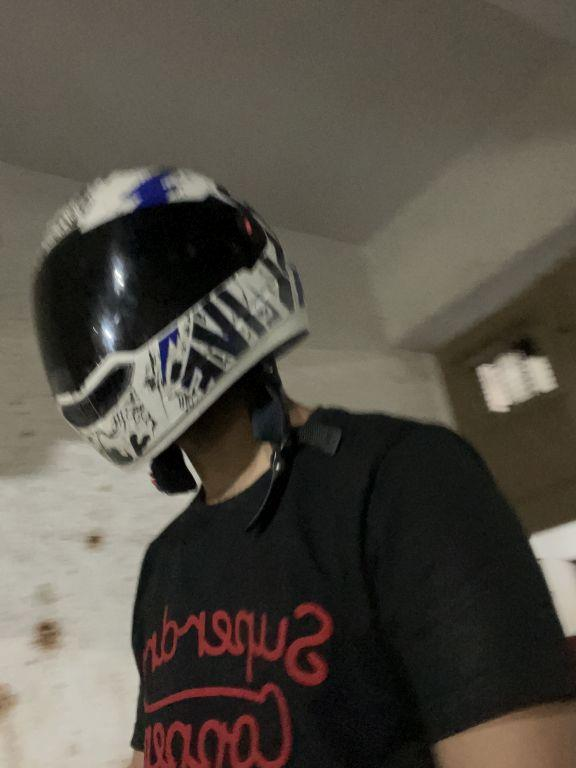helmet: (25, 154, 328, 477)
